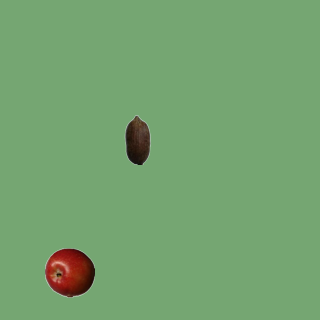Apple Braeburn: (44, 247, 94, 297)
Nut Pecan: (112, 114, 162, 164)
